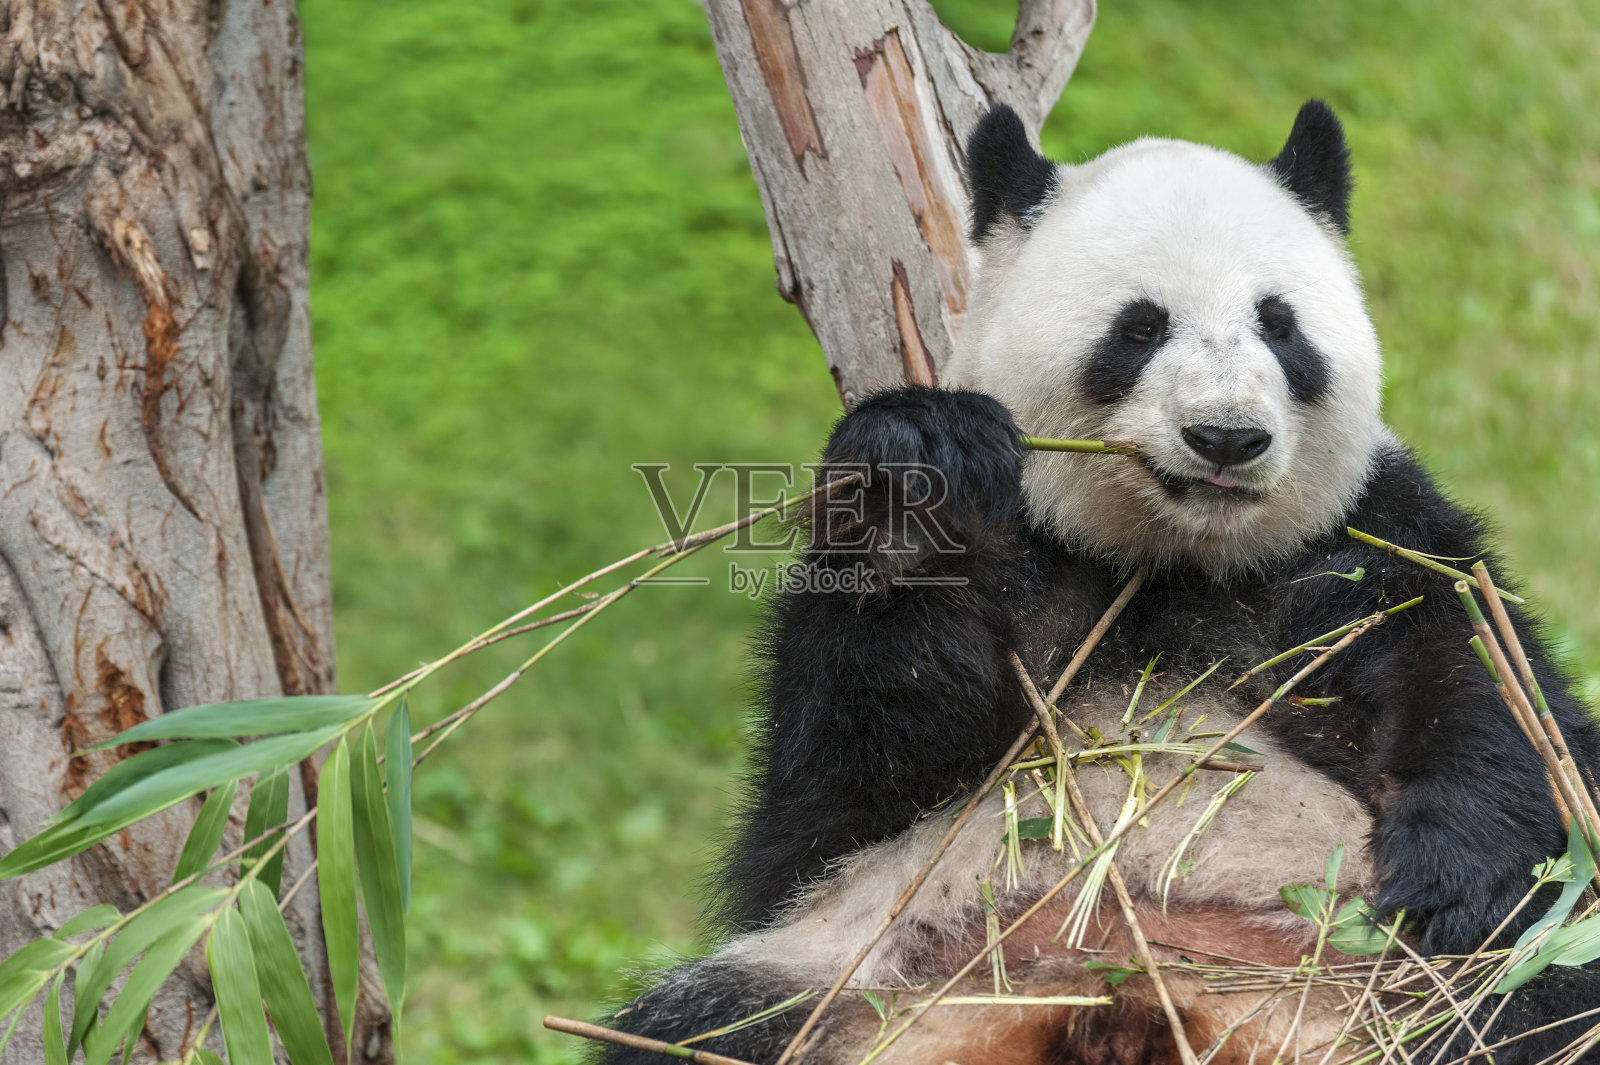panda: (766, 95, 1551, 1016)
